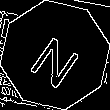N_NE: (24, 23, 86, 87)
